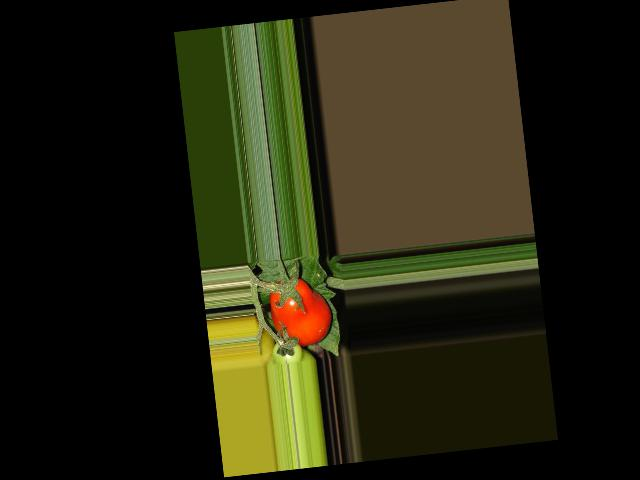tomato: (267, 274, 334, 349)
